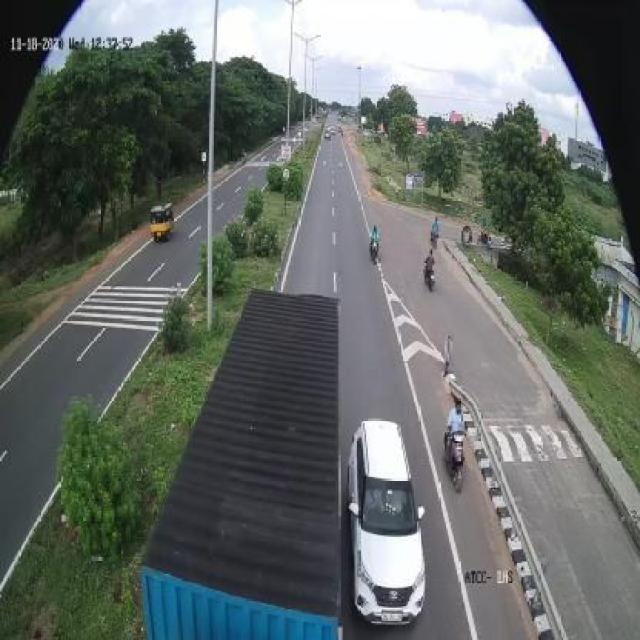car: (348, 408, 426, 626)
